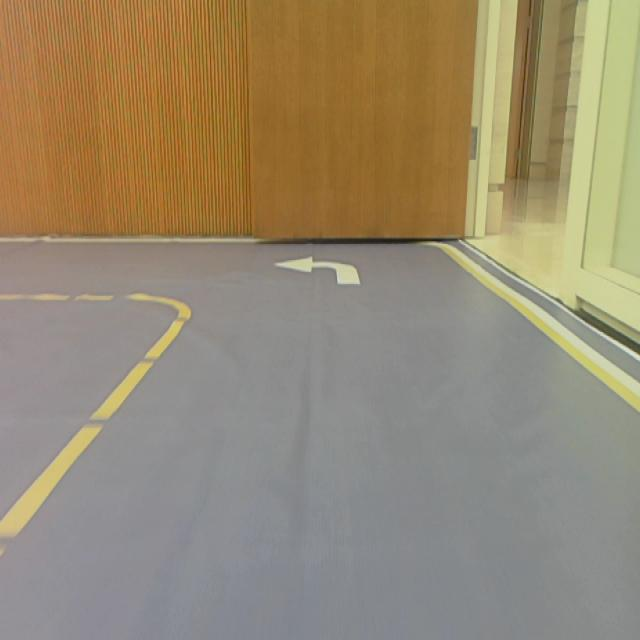left_lane: (0, 310, 193, 566)
right_lane: (441, 246, 640, 413)
